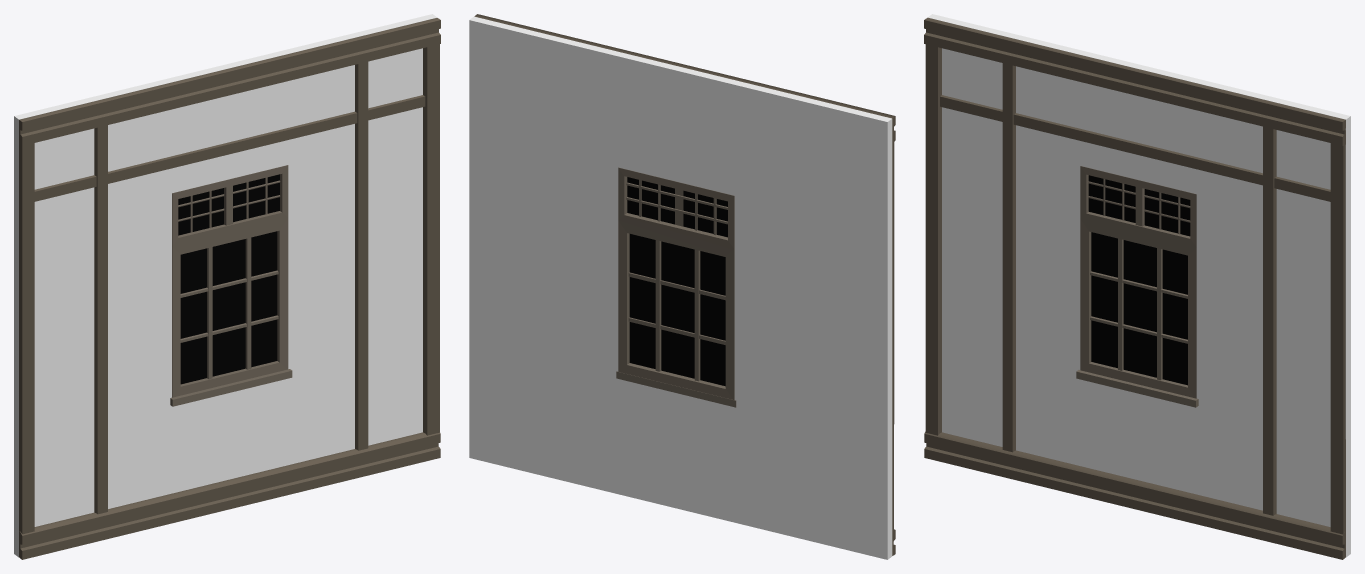
The model's file is WINDOW_03_1.fbx.
The picture shows the model from 3 angles, left to right: view 1: azimuth 30°, elevation 25°; view 2: azimuth 150°, elevation 25°; view 3: azimuth 330°, elevation 25°; orthographic projection.
Visible parts, largest first — view 1: WINDOW_03_1; view 2: WINDOW_03_1; view 3: WINDOW_03_1.
Part boxes in pixels (x1,y1,x2,y2): WINDOW_03_1: (14,14,440,559); WINDOW_03_1: (469,14,895,559); WINDOW_03_1: (924,14,1350,559).
Size of the model in its own units: 300 by 300 by 10.68.
